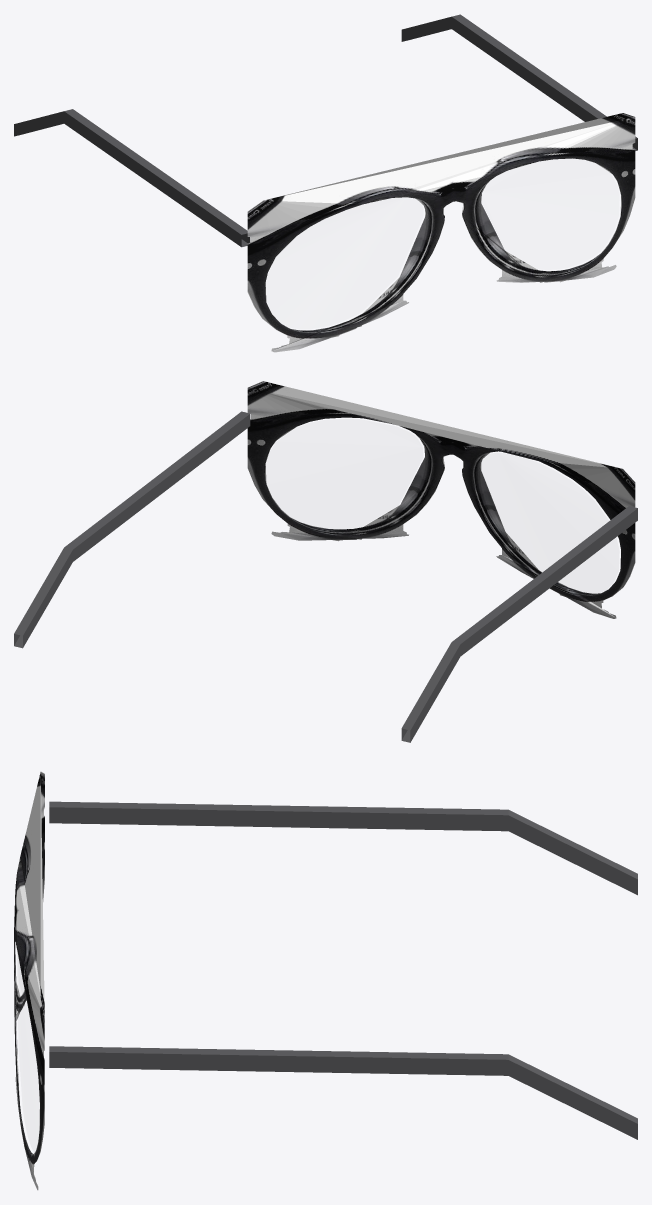
The model's file is gothamstyle-241_black.glb.
3 views of the same model, one above another, from view 1: azimuth 30°, elevation 25°; view 2: azimuth 150°, elevation 25°; view 3: azimuth 270°, elevation 25° (orthographic). The views are drawn at different scales.
Visible parts, largest first — view 1: frame_front, temple_viewer_left, temple_viewer_right; view 2: frame_front, temple_viewer_left, temple_viewer_right; view 3: temple_viewer_left, temple_viewer_right, frame_front.
Boxes of the visible parts, x1=… form: frame_front: x1=247, y1=113, x2=635, y2=352; temple_viewer_left: x1=14, y1=109, x2=250, y2=247; temple_viewer_right: x1=401, y1=14, x2=637, y2=150; frame_front: x1=247, y1=381, x2=635, y2=618; temple_viewer_left: x1=401, y1=506, x2=637, y2=742; temple_viewer_right: x1=14, y1=411, x2=250, y2=648; temple_viewer_left: x1=49, y1=801, x2=637, y2=895; temple_viewer_right: x1=49, y1=1046, x2=637, y2=1139; frame_front: x1=14, y1=771, x2=44, y2=1190.
Size of the model in its own units: 0.1338 by 0.0497 by 0.141.
Materials: 3 (2 with a texture image).
